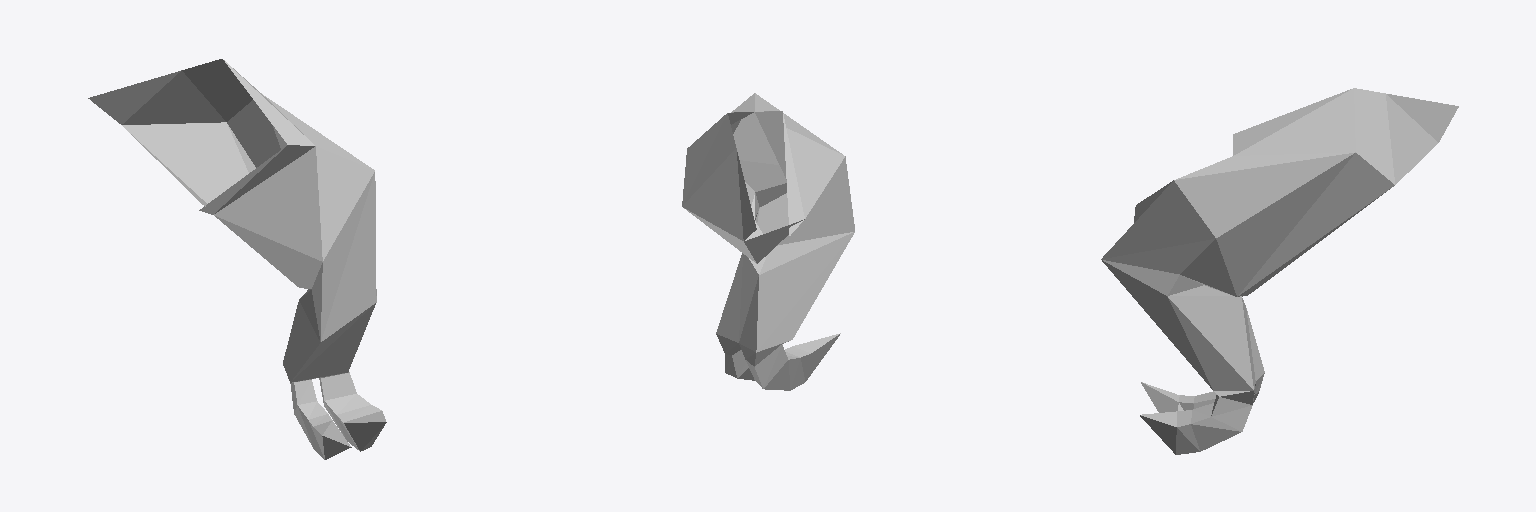
File: brazoDer.obj
The picture shows the model from 3 angles: view 1: azimuth 30°, elevation 25°; view 2: azimuth 150°, elevation 25°; view 3: azimuth 270°, elevation 25°; orthographic projection.
Visible parts, largest first — view 1: polySurface61 polySurface56 polySurface55 polySurface52 dino1:Me; view 2: polySurface61 polySurface56 polySurface55 polySurface52 dino1:Me; view 3: polySurface61 polySurface56 polySurface55 polySurface52 dino1:Me.
Boxes of the visible parts, box(x1,y1,x2,y2) form: polySurface61 polySurface56 polySurface55 polySurface52 dino1:Me: box(88, 59, 386, 459); polySurface61 polySurface56 polySurface55 polySurface52 dino1:Me: box(682, 93, 854, 390); polySurface61 polySurface56 polySurface55 polySurface52 dino1:Me: box(1101, 88, 1458, 454).
Size of the model in its own units: 12.22 by 25.23 by 24.16.